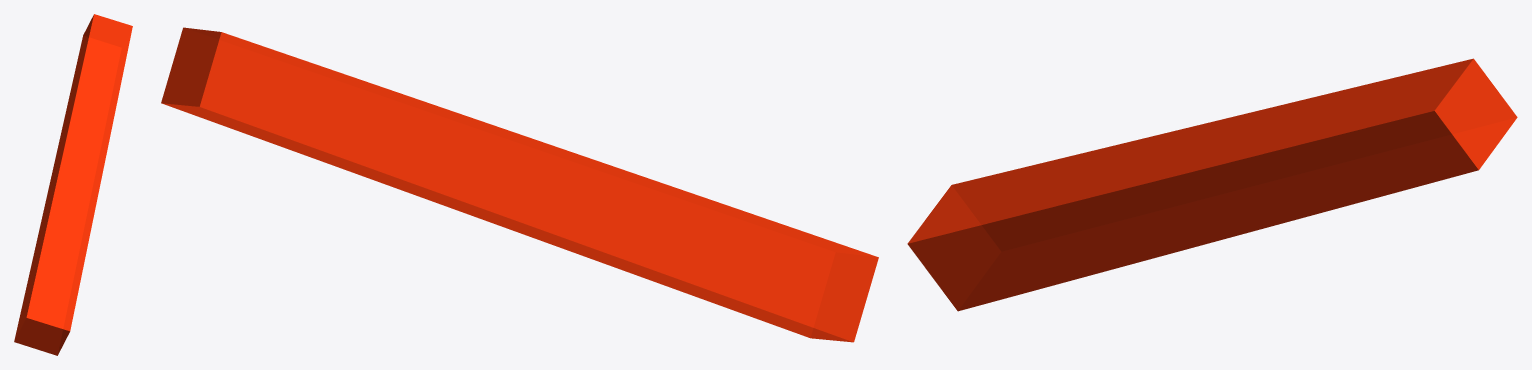
File: Event_420107950_EBrechit_2.fbx
3 renders of one model, left to right at view 1: azimuth 30°, elevation 25°; view 2: azimuth 150°, elevation 25°; view 3: azimuth 270°, elevation 25°, orthographic. The views are drawn at different scales.
Visible parts, largest first — view 1: Model; view 2: Model; view 3: Model.
Part boxes in pixels (bbox=[...]): Model: bbox=[14, 14, 132, 355]; Model: bbox=[161, 27, 878, 342]; Model: bbox=[907, 58, 1517, 311].
Bounding box in the file's own units: 0.3704 × 0.3228 × 0.4309.
